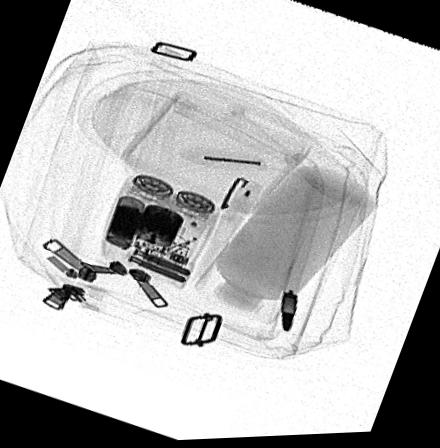Bullet: (279, 294, 297, 334)
